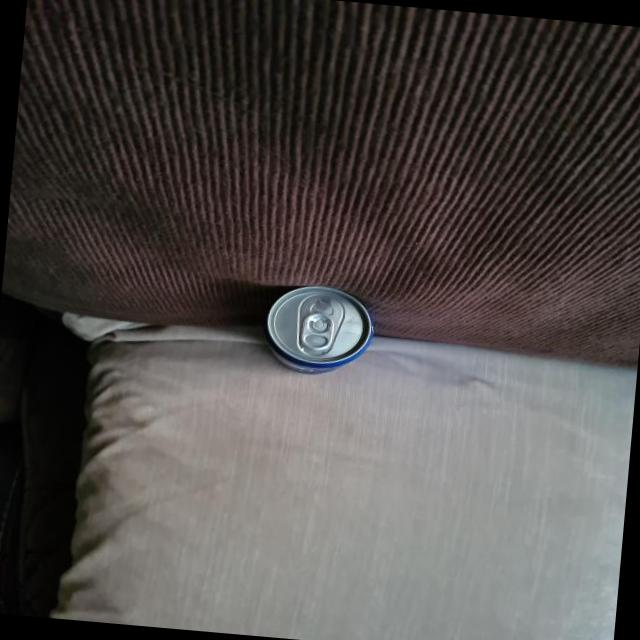Kaleng: (260, 280, 380, 380)
